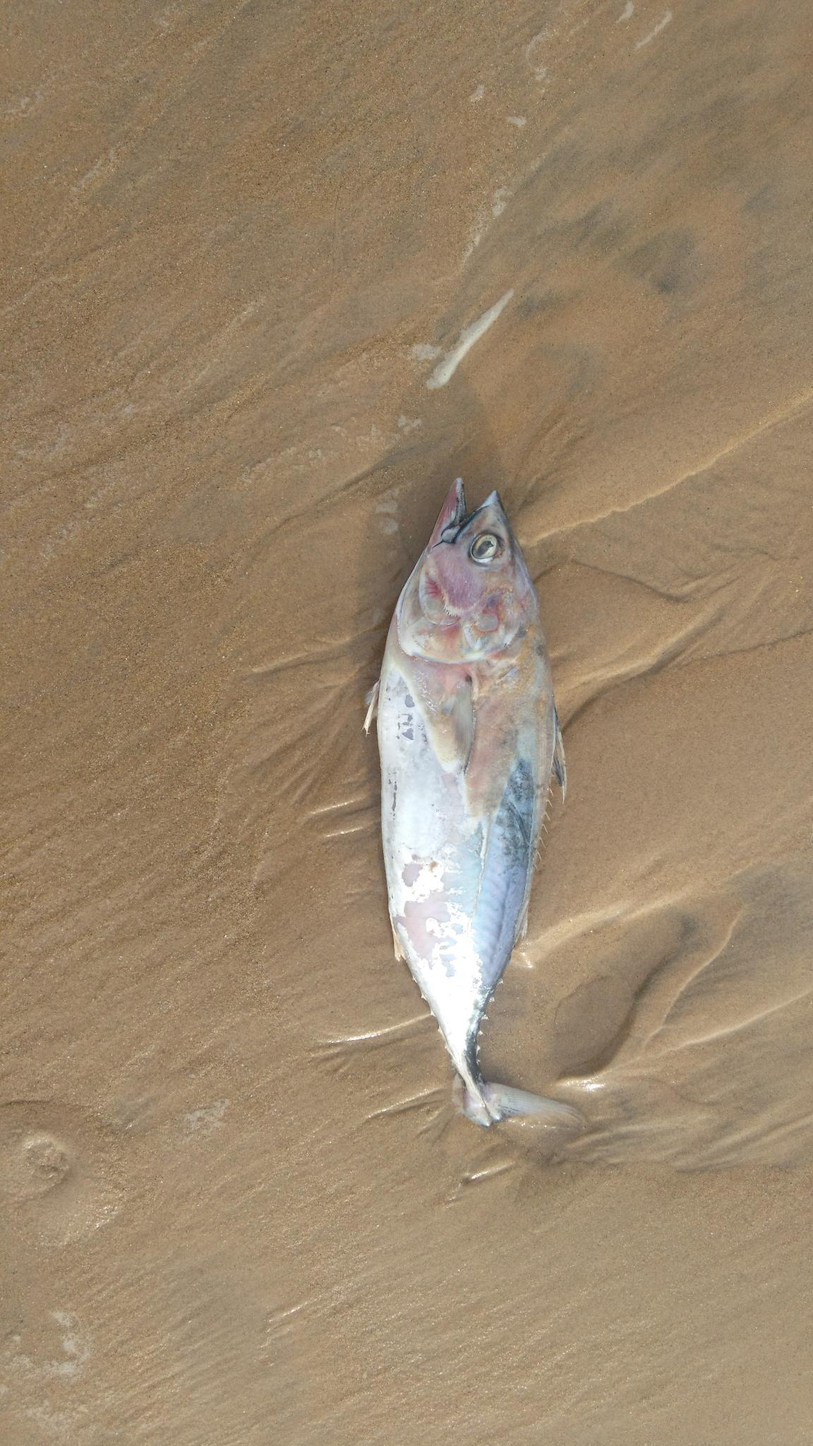Fish: (344, 457, 659, 1171)
